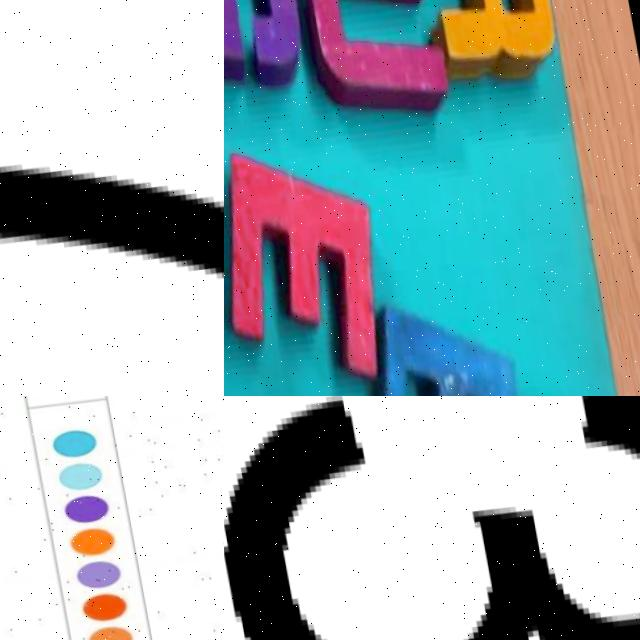3: (224, 396, 640, 640)
7: (0, 12, 224, 396)
B: (343, 284, 538, 396)
E: (224, 116, 401, 396)
G: (224, 0, 311, 92)
R: (419, 0, 564, 102)
U: (291, 0, 456, 143)
